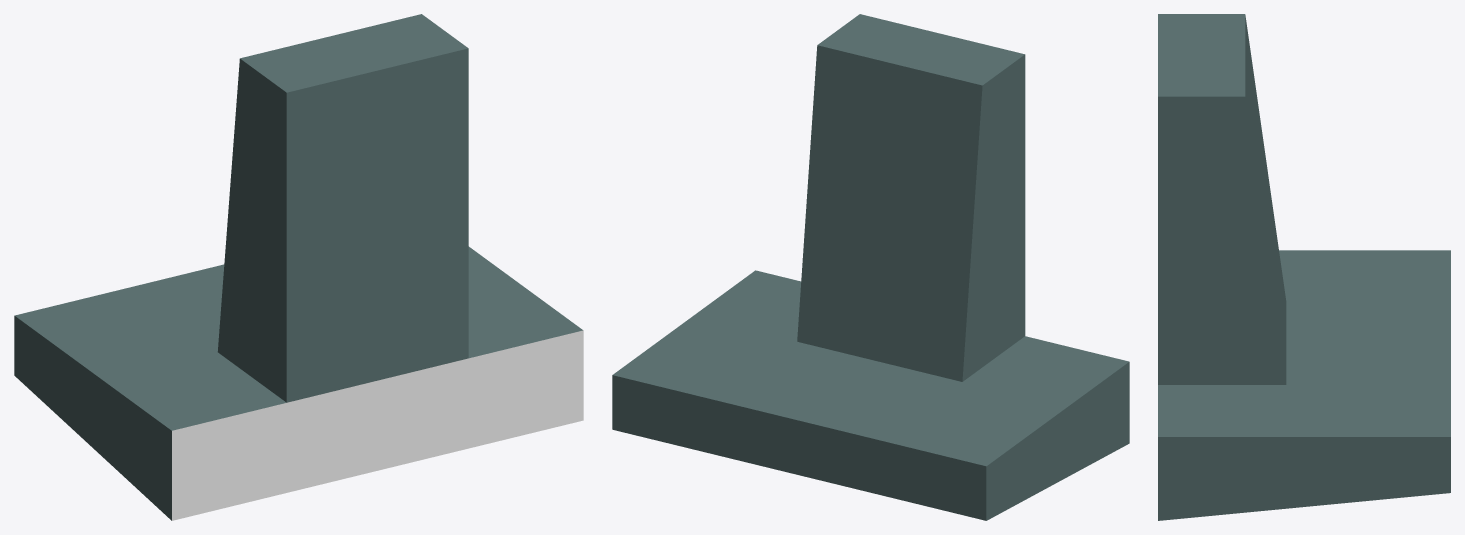
The model's file is hoodModern.obj.
The picture shows the model from 3 angles, left to right: view 1: azimuth 30°, elevation 25°; view 2: azimuth 150°, elevation 25°; view 3: azimuth 270°, elevation 25°; orthographic projection. The views are drawn at different scales.
Parts seen in each view (by area): view 1: hoodModern; view 2: hoodModern; view 3: hoodModern.
Part boxes in pixels (x1,y1,x2,y2): hoodModern: (14,14,583,520); hoodModern: (612,14,1129,520); hoodModern: (1158,14,1450,520).
Size of the model in its own units: 0.43 by 0.3995 by 0.2849.
